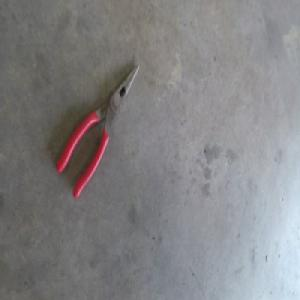Pliers: (57, 67, 140, 199)
